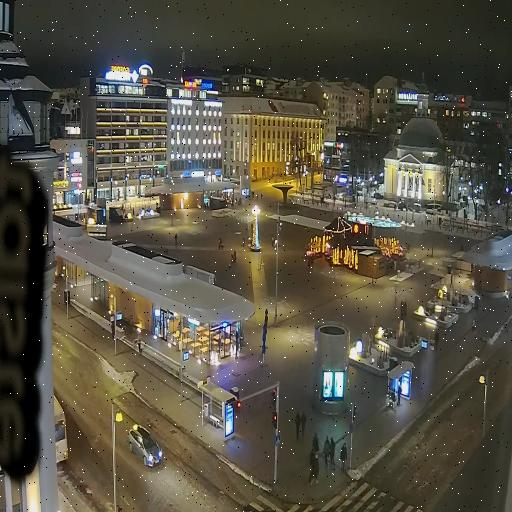Bus: (54, 392, 67, 465)
